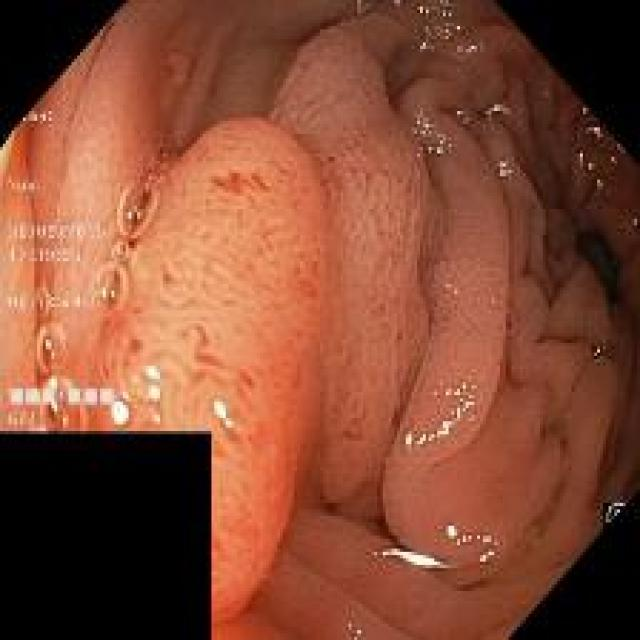Polyps: (105, 17, 429, 618)
